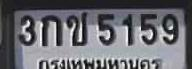1: (121, 13, 132, 45)
3: (18, 14, 35, 45)
5: (96, 13, 114, 45), (139, 13, 156, 44)
9: (161, 13, 177, 44)
A01: (40, 14, 60, 46)
A10: (66, 11, 87, 45)
BKK: (37, 57, 161, 69)
